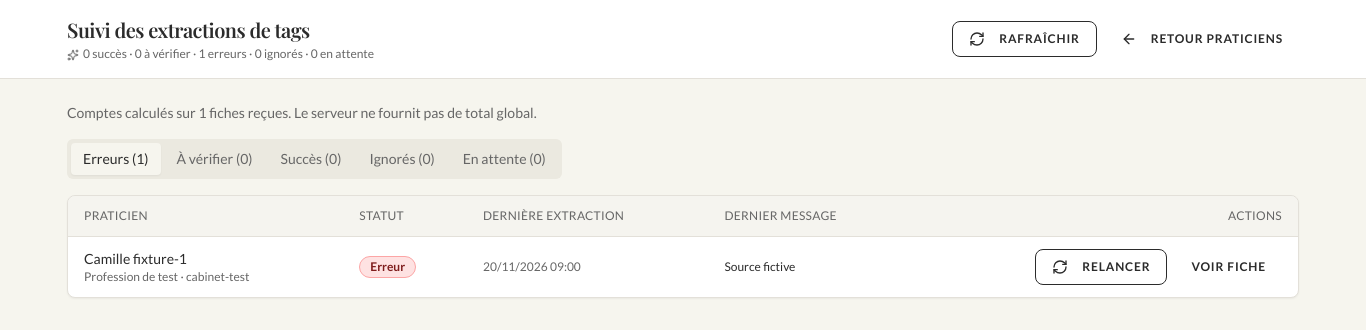
Test: affiche le nom et le dernier état puis retire la liste pendant un rafraîchissement
Click the button "Rafraîchir": (1024, 39) x1=952 y1=21 x2=1097 y2=57
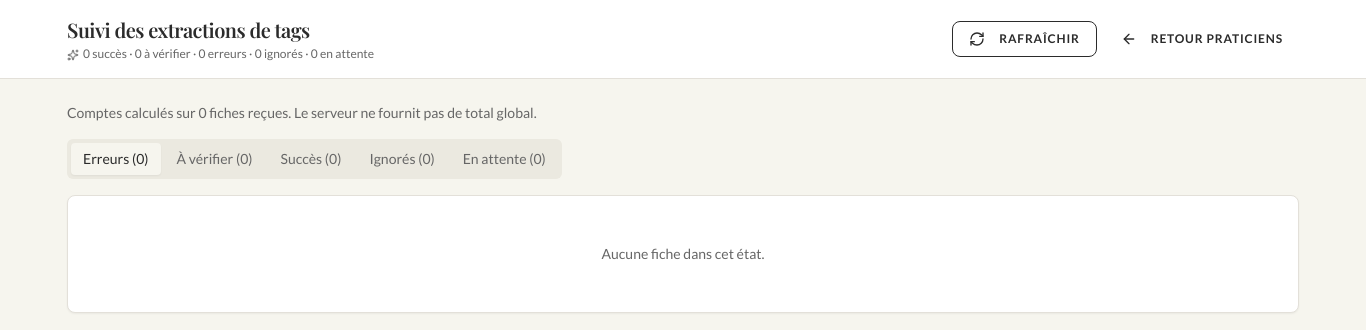
Result: the text "fixture-1" is gone
Result: the text "Erreurs (0)" is shown at x1=71 y1=143 x2=160 y2=175
